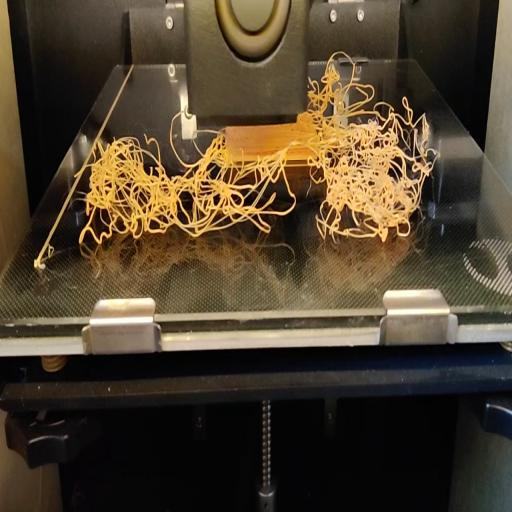spaghetti: (74, 120, 441, 252), (308, 49, 416, 121)
